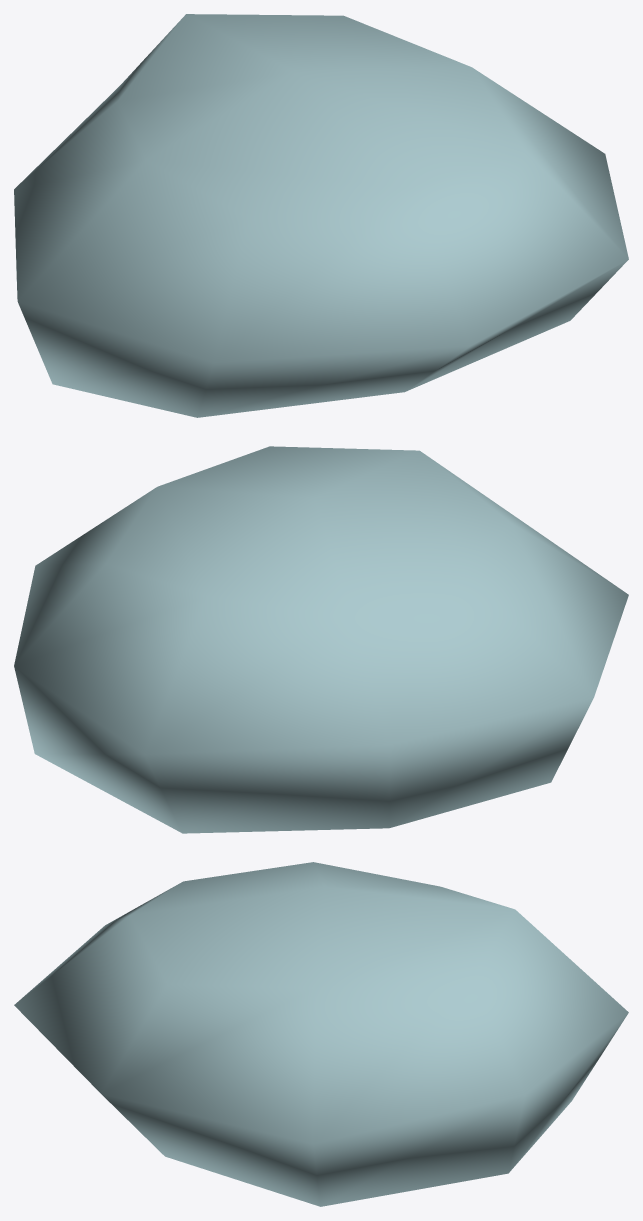
Rendered from UnderWaterRock2.fbx.
3 renders of one model, top to bottom at view 1: azimuth 30°, elevation 25°; view 2: azimuth 150°, elevation 25°; view 3: azimuth 270°, elevation 25°, orthographic. The views are drawn at different scales.
Parts seen in each view (by area): view 1: UnderWaterRock2; view 2: UnderWaterRock2; view 3: UnderWaterRock2.
Boxes of the visible parts, x1=… form: UnderWaterRock2: x1=14, y1=14, x2=628, y2=417; UnderWaterRock2: x1=14, y1=446, x2=628, y2=833; UnderWaterRock2: x1=14, y1=862, x2=628, y2=1206.
Bounding box in the file's own units: 1.86 × 1.96 × 0.823.
